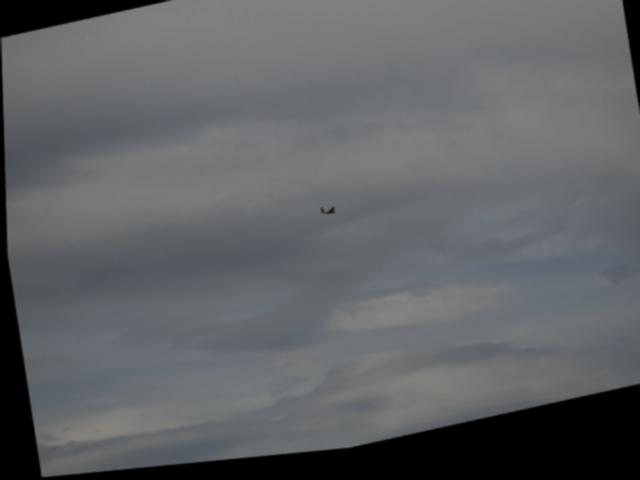plane: (315, 207, 337, 225)
